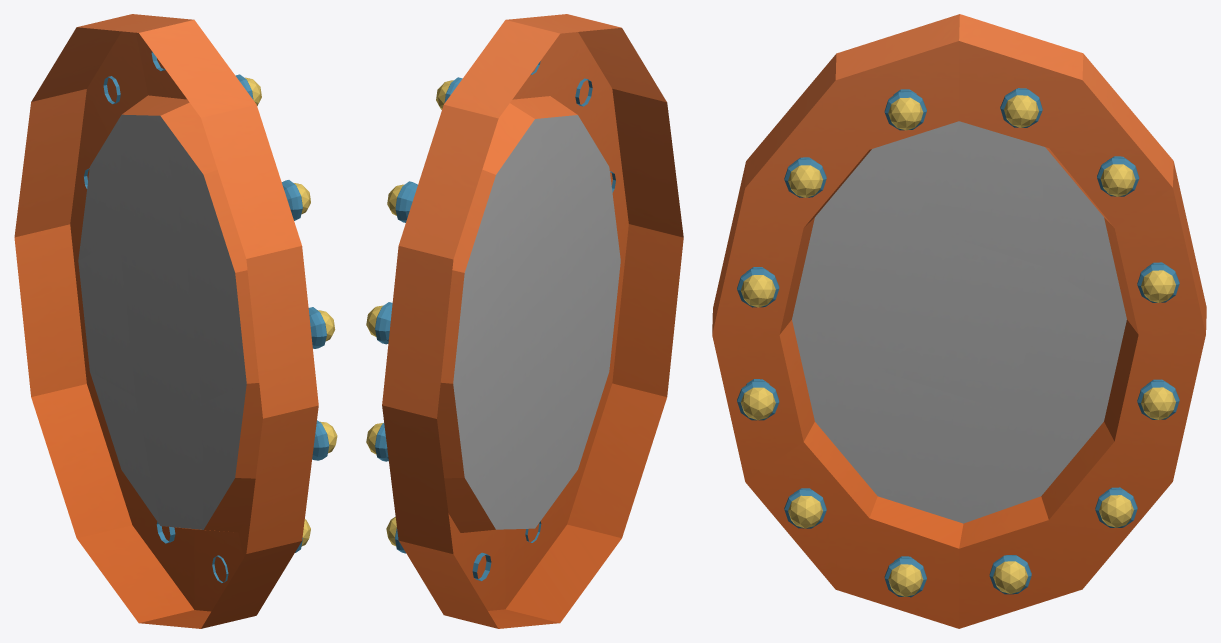
The model's file is Mirror.fbx.
The picture shows the model from 3 angles, left to right: view 1: azimuth 30°, elevation 25°; view 2: azimuth 150°, elevation 25°; view 3: azimuth 270°, elevation 25°; orthographic projection.
Parts seen in each view (by area): view 1: Mirror, Lightbulb.006, Lightbulb.005, Lightbulb.035; view 2: Mirror, Lightbulb.008, Lightbulb.012, Lightbulb.009; view 3: Mirror, Lightbulb.035, Lightbulb.036, Lightbulb.033, Lightbulb.034, Lightbulb.009, Lightbulb.005, Lightbulb.006, Lightbulb.012, Lightbulb.011, Lightbulb.008, Lightbulb.007 (+1 smaller).
Boxes of the visible parts, x1,y1,x2,y2 form: Mirror: [14, 14, 318, 628]; Lightbulb.006: [308, 307, 335, 348]; Lightbulb.005: [282, 180, 310, 220]; Lightbulb.035: [312, 420, 337, 460]; Mirror: [382, 14, 683, 628]; Lightbulb.008: [387, 181, 417, 222]; Lightbulb.012: [366, 302, 392, 344]; Lightbulb.009: [366, 423, 388, 461]; Mirror: [712, 14, 1206, 628]; Lightbulb.035: [737, 379, 779, 420]; Lightbulb.036: [884, 89, 926, 130]; Lightbulb.033: [884, 556, 926, 597]; Lightbulb.034: [784, 488, 826, 528]; Lightbulb.009: [1137, 379, 1179, 419]; Lightbulb.005: [784, 157, 826, 197]; Lightbulb.006: [737, 267, 779, 307]; Lightbulb.012: [1137, 262, 1179, 302]; Lightbulb.011: [1095, 487, 1137, 527]; Lightbulb.008: [1097, 156, 1139, 196]; Lightbulb.007: [1000, 88, 1042, 127].
Bounding box in the file's own units: 11.65 × 68.51 × 52.23.
